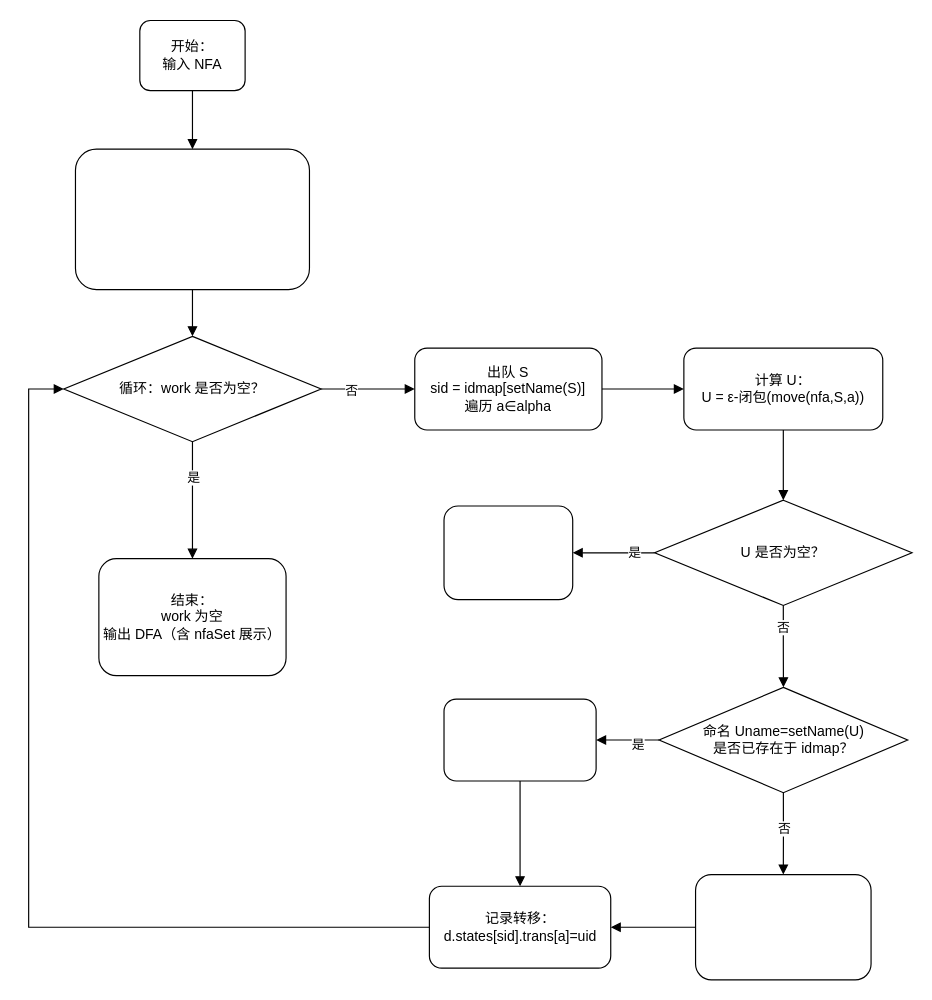
Some shapes in this 932 by 1000 pixel diagram are drawn without their labels. The centre of each missing label's shape, as x and y in pixels:
初始化： startSet={nfa.start}→ε-闭包→st 命名 st 建 d0（接受判定） 入队 work nextId=2: point (191, 219)
复用： uid=idmap[Uname]: point (519, 739)
新集合： uid=nextId 建 ds（接受判定） d.states[uid]=ds work.enqueue(U) nextId++: point (782, 926)
跳过： 不记录转移 继续下一个 a: point (508, 552)
